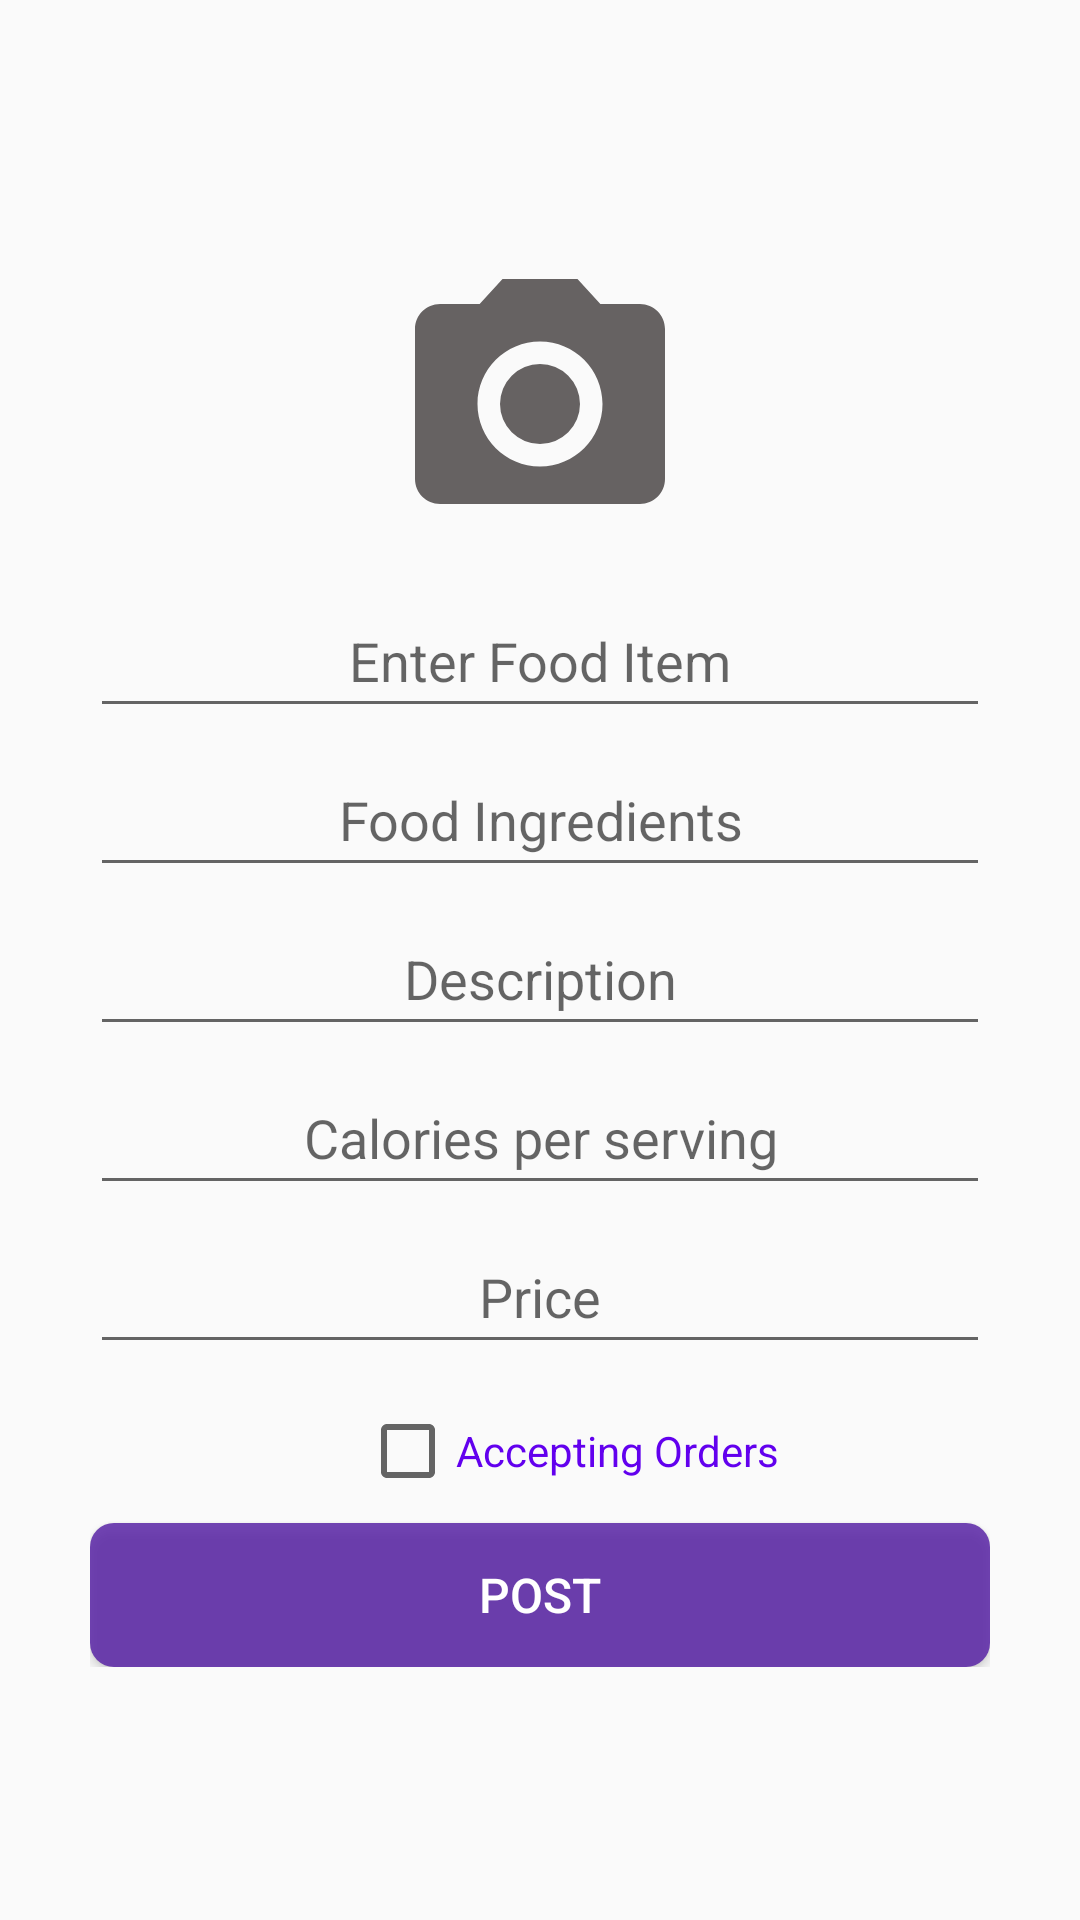

Named icons in this screenshot (1080x1920) and their centers, (x,y):
photo camera: (540,391)
